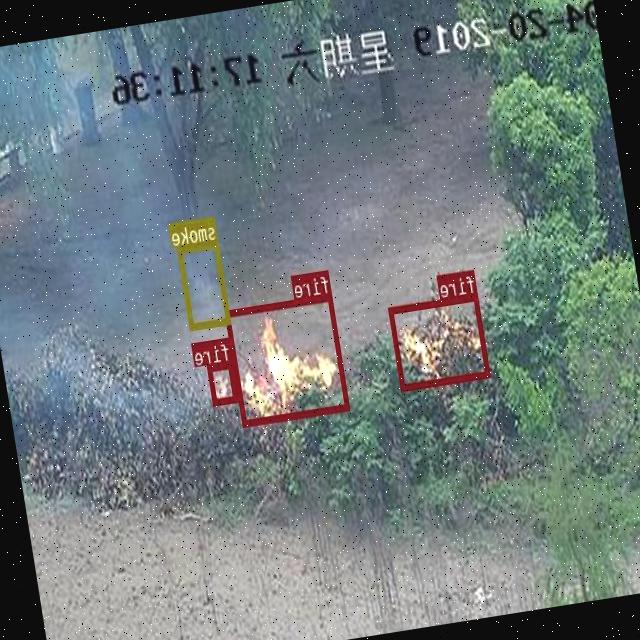fire: (224, 292, 350, 426), (389, 293, 492, 390), (208, 360, 240, 406)
smoke: (178, 240, 232, 330)
